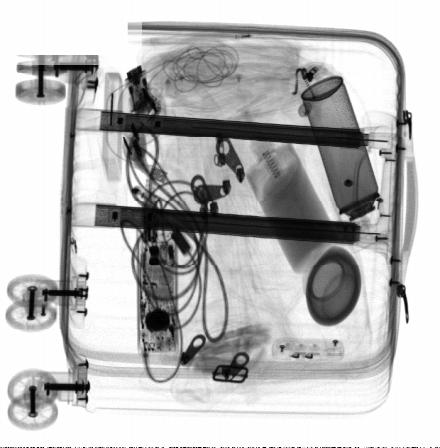Sprayer: (302, 76, 386, 239)
